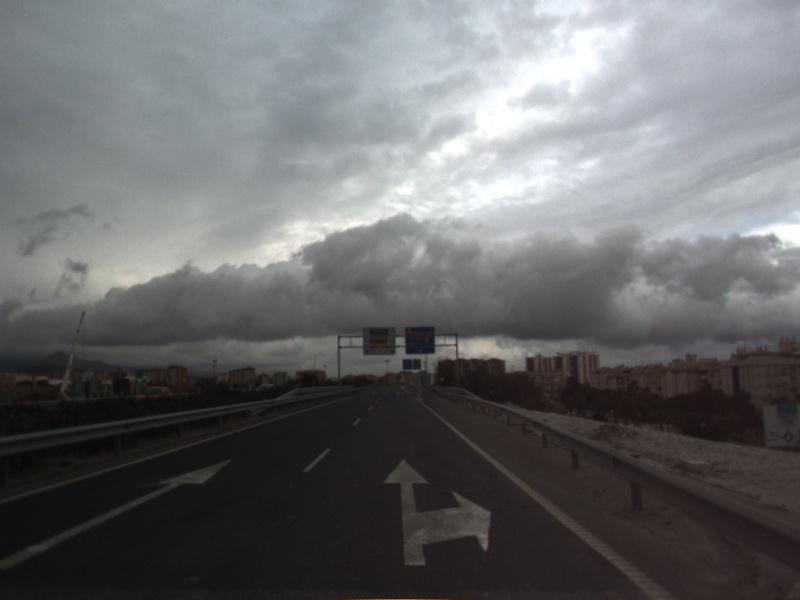STRAIGHT: (1, 456, 235, 571)
STRAIGHT_RIGHT: (380, 457, 493, 568)
